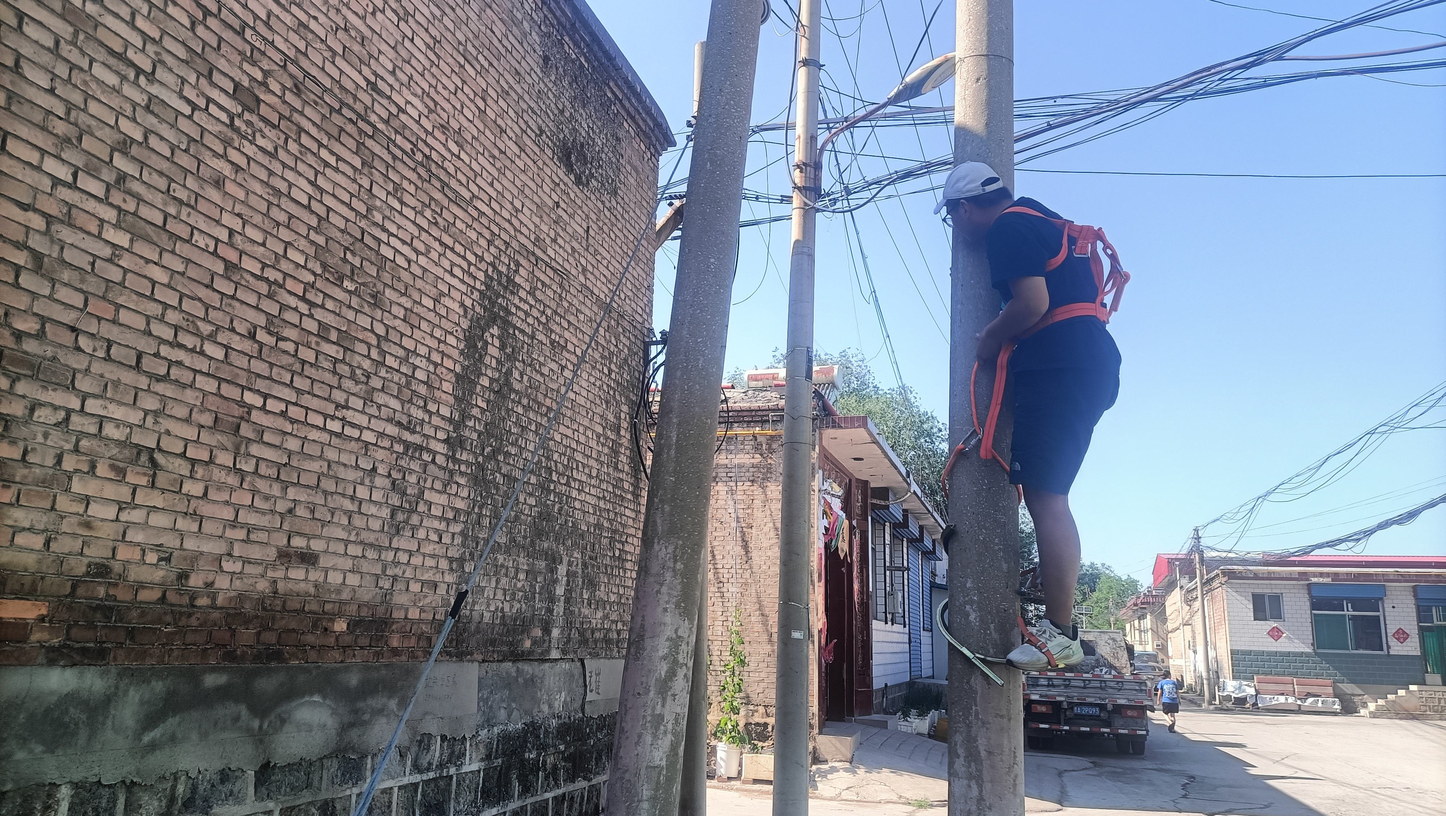安全帽、工作服均未穿戴的工作人员: (935, 156, 1132, 675)
